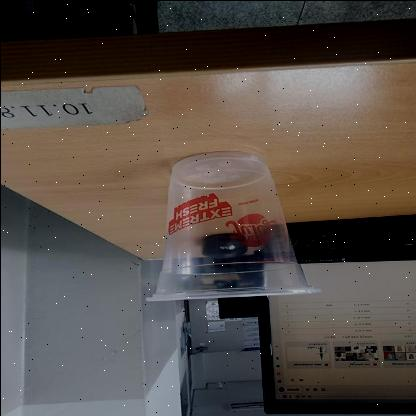Others: (143, 152, 319, 302)
